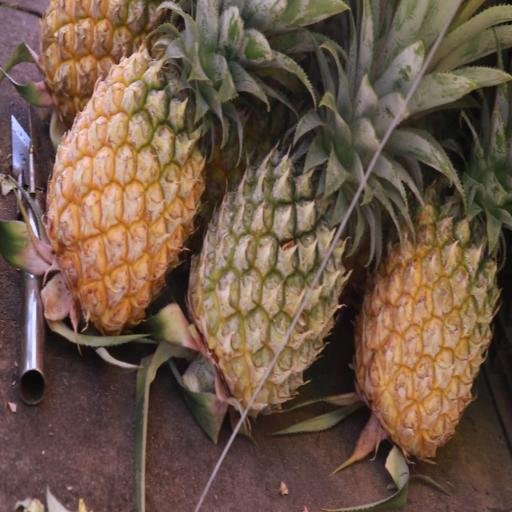Pineapple - v8 v1: (40, 0, 209, 350), (354, 90, 508, 465)
